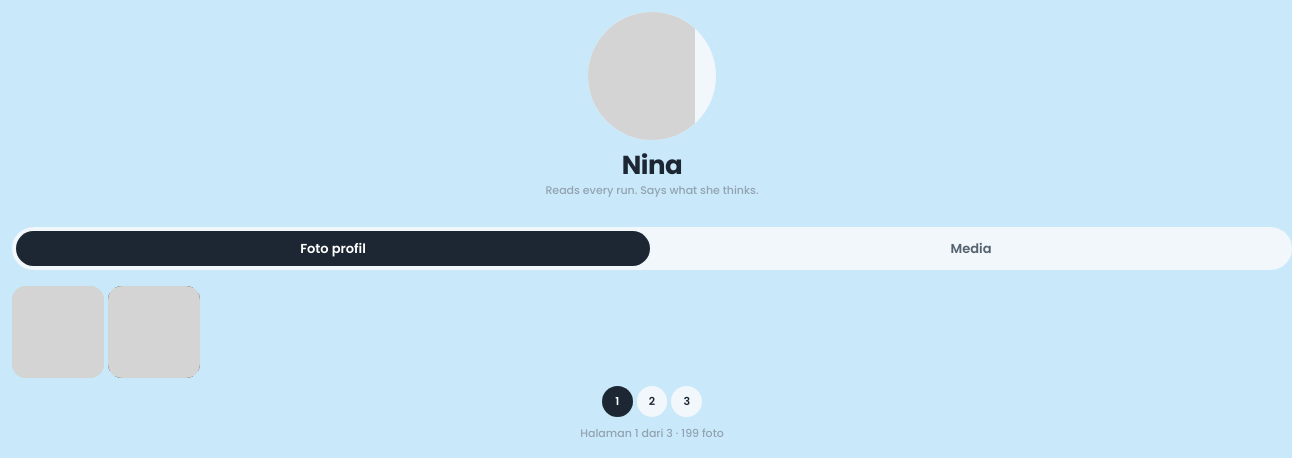
it: NinaAboutScreen — pagination › jumps from page 1 straight to page 3 in ONE tap — the whole reason the stepper went
Expected: the text "Halaman 1 dari 3 · 199 foto" is shown, [580,425,724,441]
Click the button "3". click: (687, 401)
box: [671,386,702,417]
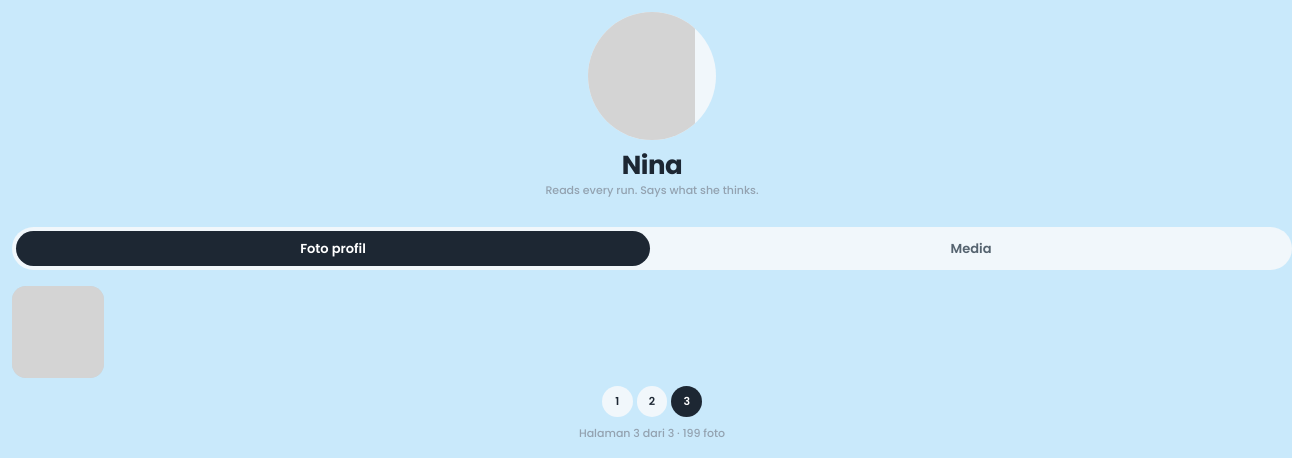
Now the text "Halaman 3 dari 3 · 199 foto" is shown, box [579,425,725,441]
